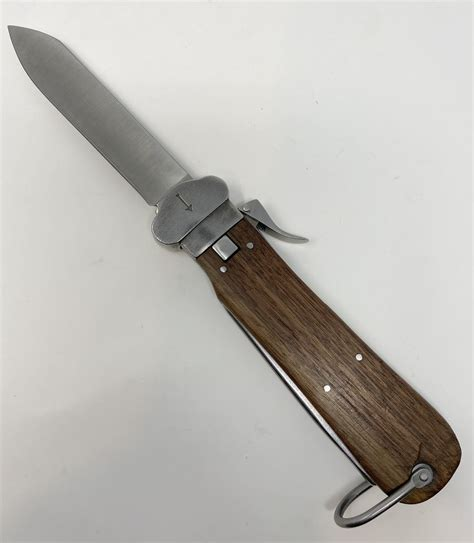knife: (7, 24, 462, 526)
